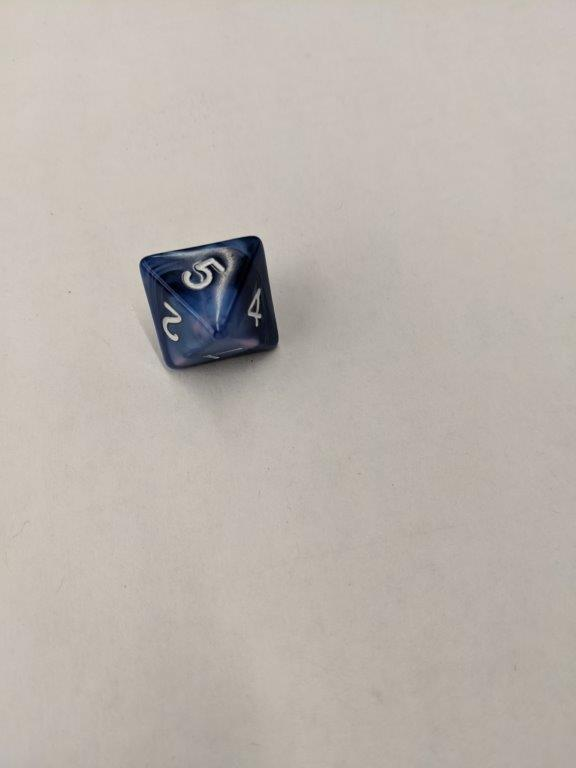d8-5: (137, 235, 282, 372)
